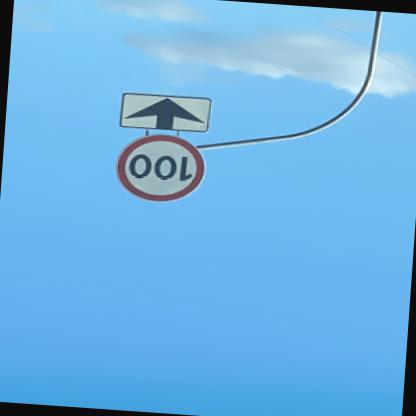speedlimit: (117, 132, 210, 206)
